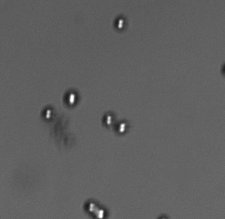Living Cell: (82, 199, 108, 218), (62, 89, 81, 109), (100, 111, 116, 128), (113, 120, 130, 136), (113, 13, 128, 31), (40, 105, 55, 121)
